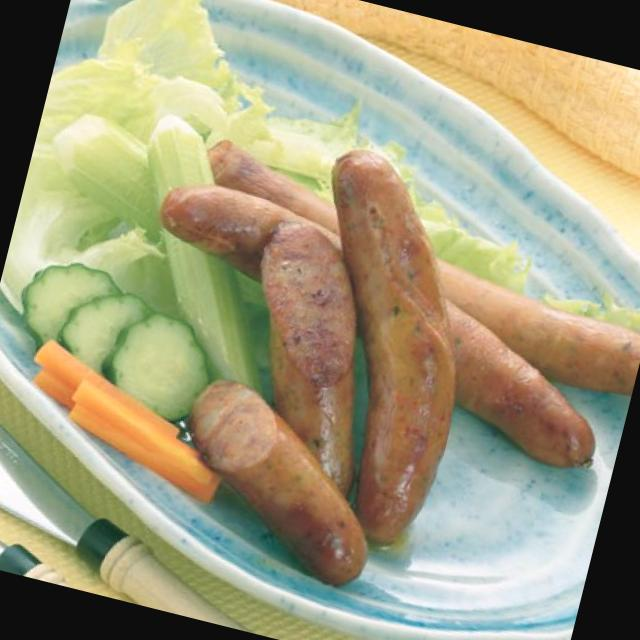Cucumber: (0, 238, 226, 405)
Sausage: (111, 105, 640, 640)
